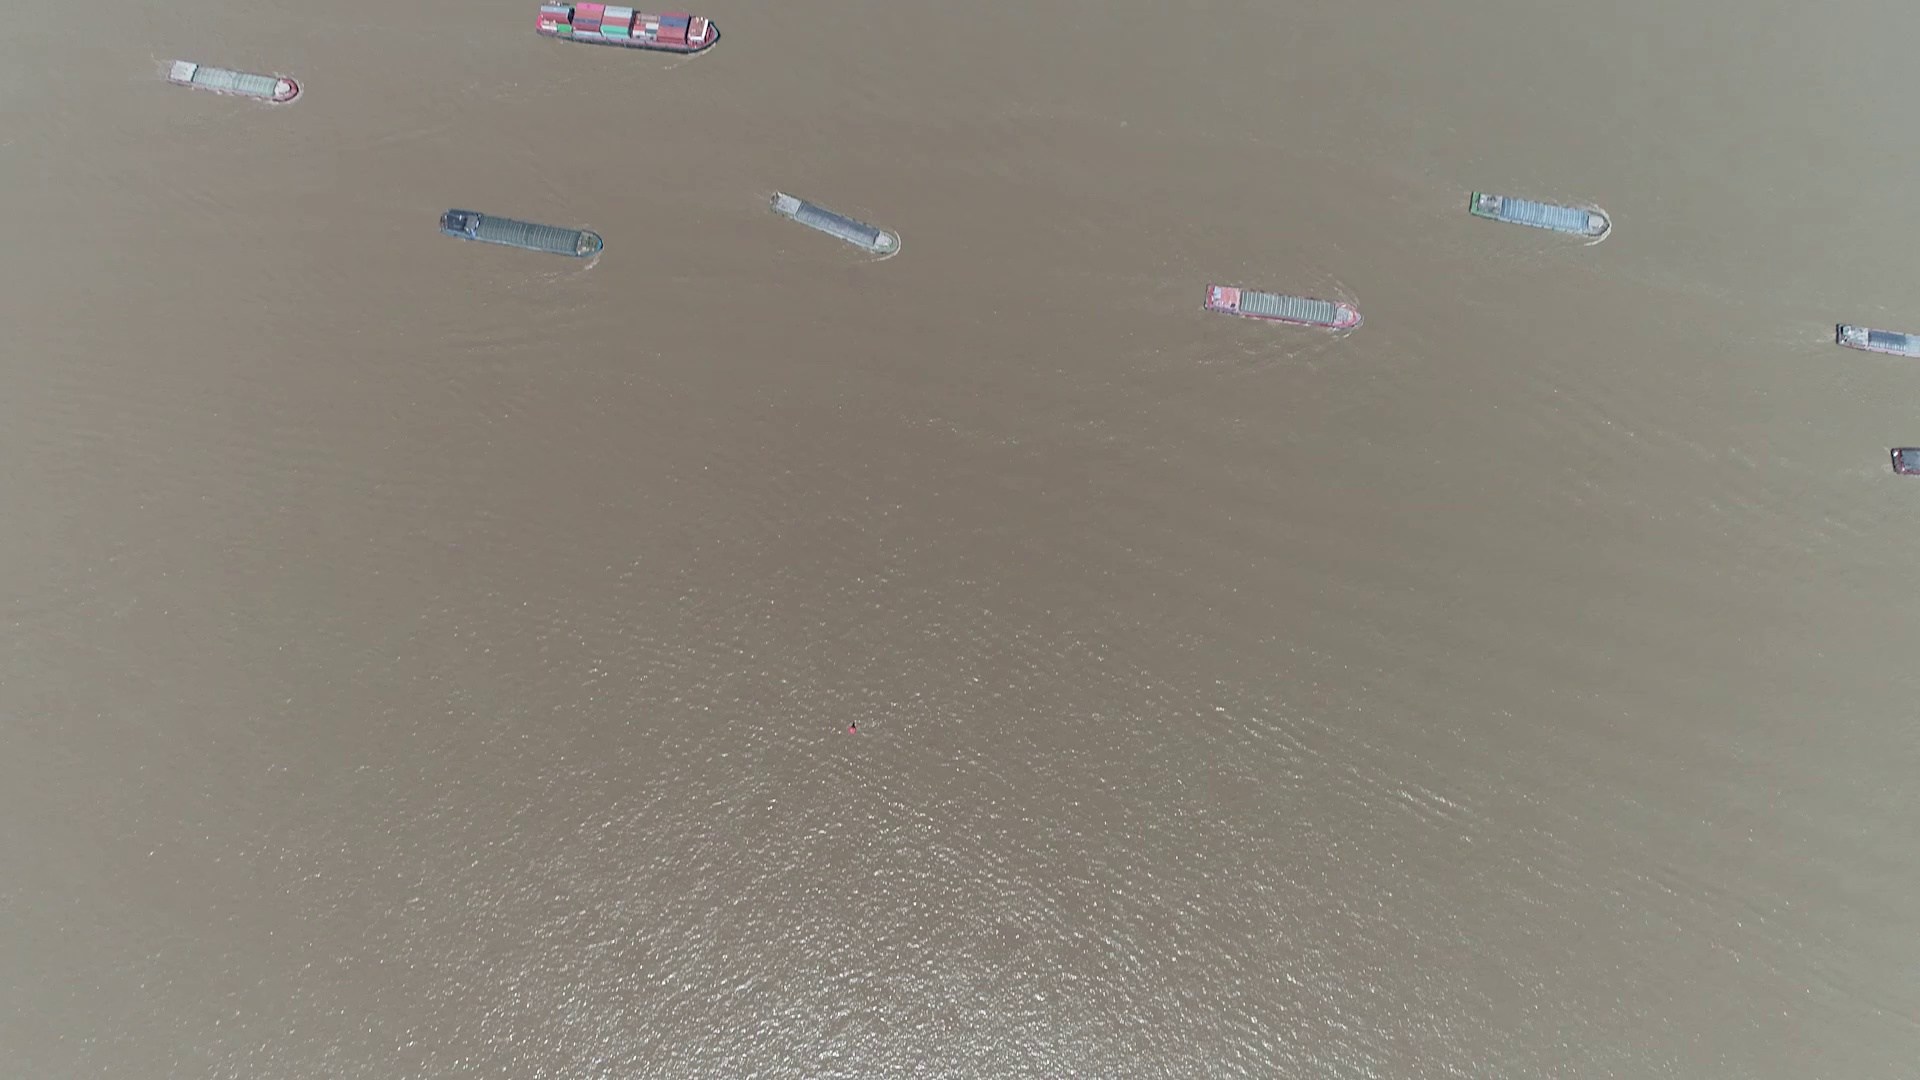ship: (531, 5, 721, 50), (440, 211, 601, 260), (769, 195, 898, 253), (1203, 289, 1357, 327), (165, 63, 297, 102), (1470, 198, 1605, 235), (1836, 328, 1917, 355)
